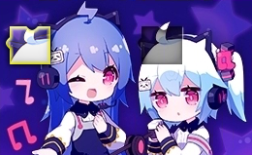gap: (138, 25, 182, 64)
